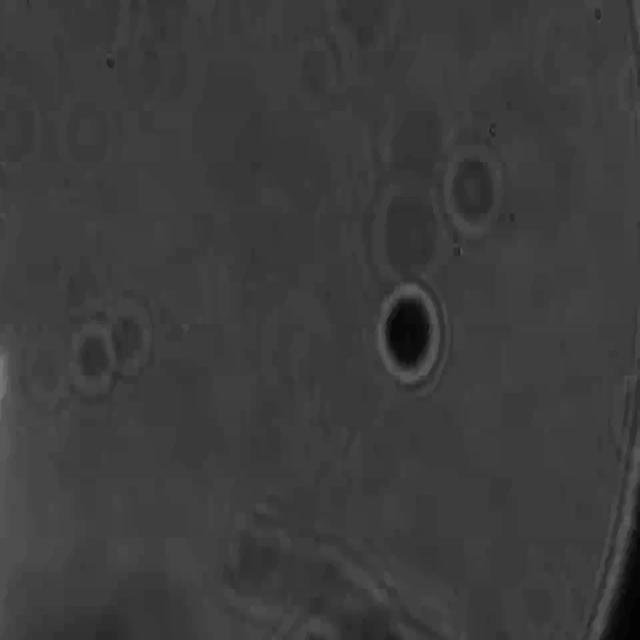DCELL: (371, 271, 450, 395)
